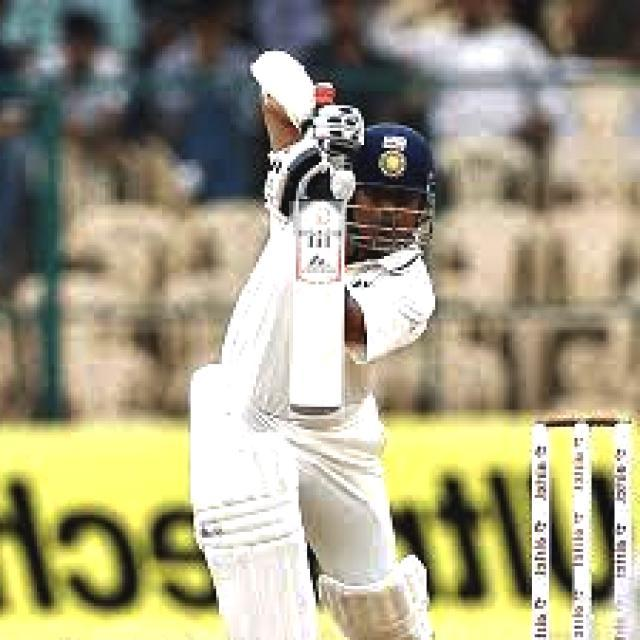bat: (289, 200, 348, 420)
toe: (291, 406, 342, 420)
